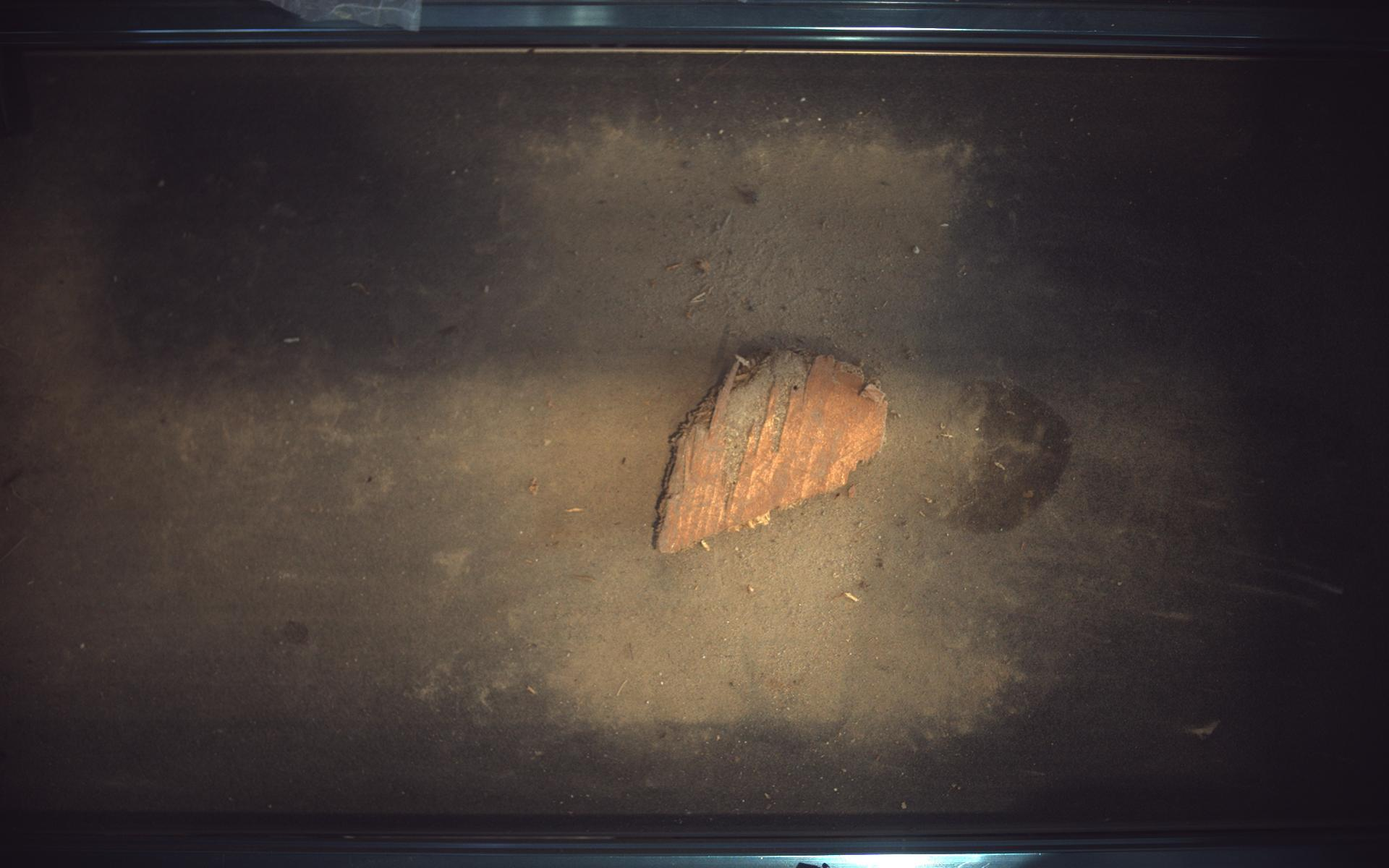wood: (655, 349, 889, 553)
